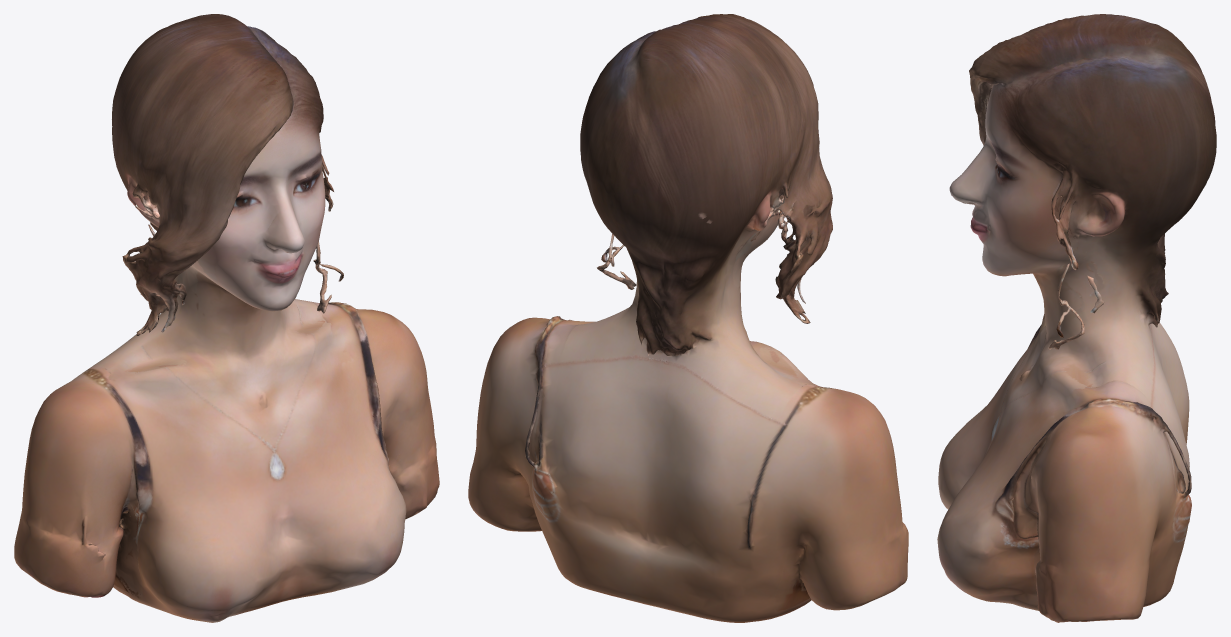
3 renders of one model, left to right at view 1: azimuth 30°, elevation 25°; view 2: azimuth 150°, elevation 25°; view 3: azimuth 270°, elevation 25°, orthographic. The views are drawn at different scales.
Bounding box in the file's own units: 1.6 × 2 × 0.9483.
1 material, 1 textured.
